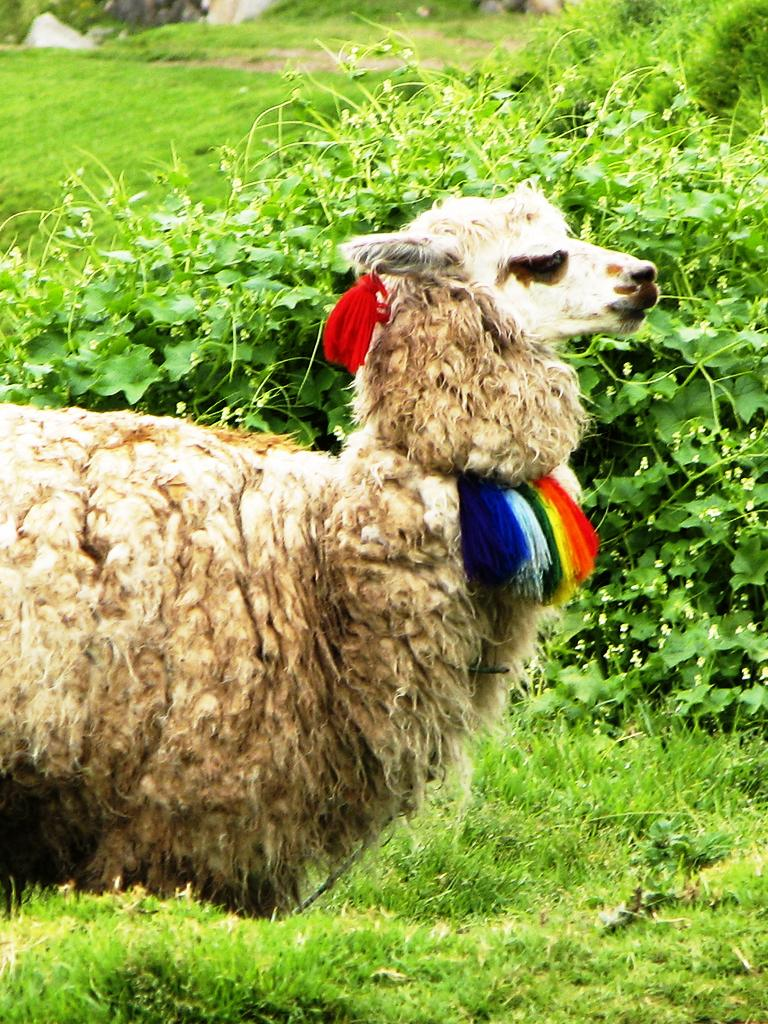Sheep: (0, 180, 657, 922)
